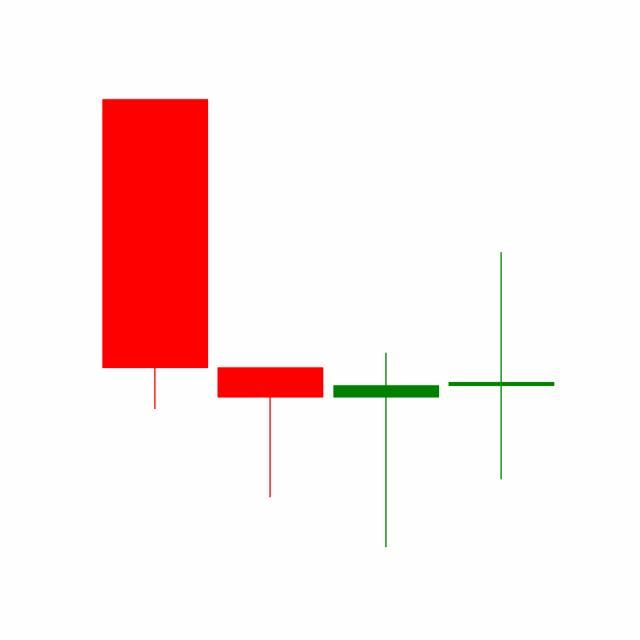Spinning Top: (444, 251, 560, 484)
